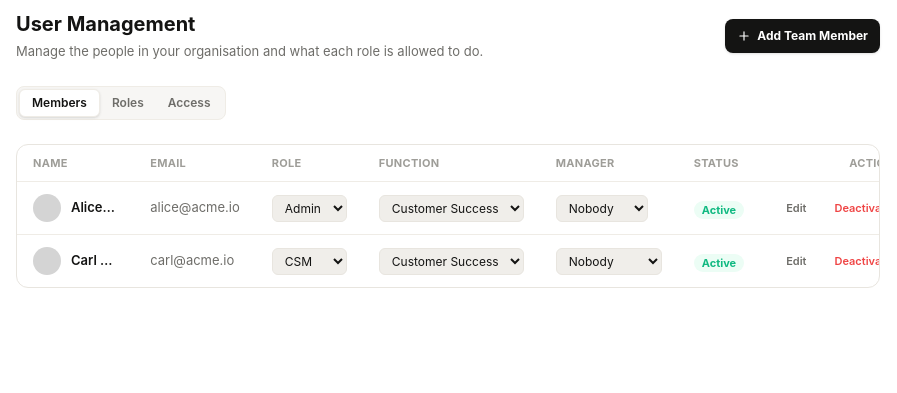
UserManagement page — Roles tab › lists the org’s roles with their real capabilities ticked
This screenshot has width=897, height=393.
Click the button "roles" at {"x": 128, "y": 102}, box [100,88,156,116]
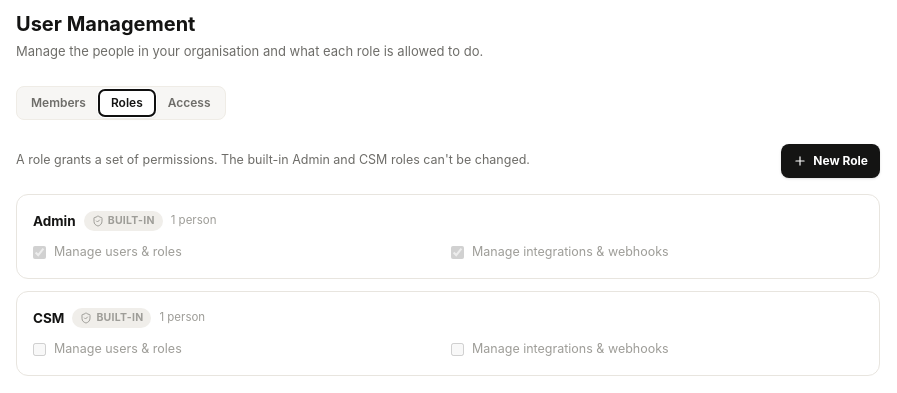
Expected: the text "Admin" is shown, [33,210,76,231]
Expected: the text "CSM" is shown, [33,308,64,328]
Expected: the 1st checkbox labelled "Manage users & roles" is checked, [33,246,46,259]
